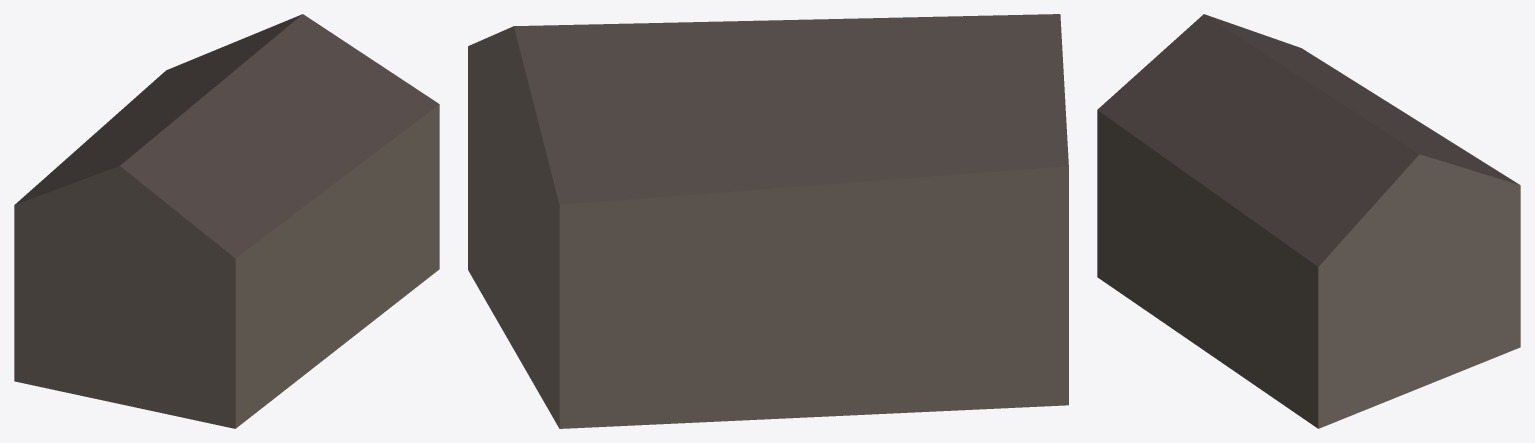
The picture shows the model from 3 angles, left to right: view 1: azimuth 30°, elevation 25°; view 2: azimuth 150°, elevation 25°; view 3: azimuth 270°, elevation 25°; orthographic projection. The views are drawn at different scales.
Parts seen in each view (by area): view 1: HP-w1515071110; view 2: HP-w1515071110; view 3: HP-w1515071110.
Part boxes in pixels (x1,y1,x2,y2): HP-w1515071110: [14, 14, 439, 428]; HP-w1515071110: [468, 14, 1068, 428]; HP-w1515071110: [1097, 14, 1520, 428].
Bounding box in the file's own units: 16.52 × 8.67 × 14.23.
